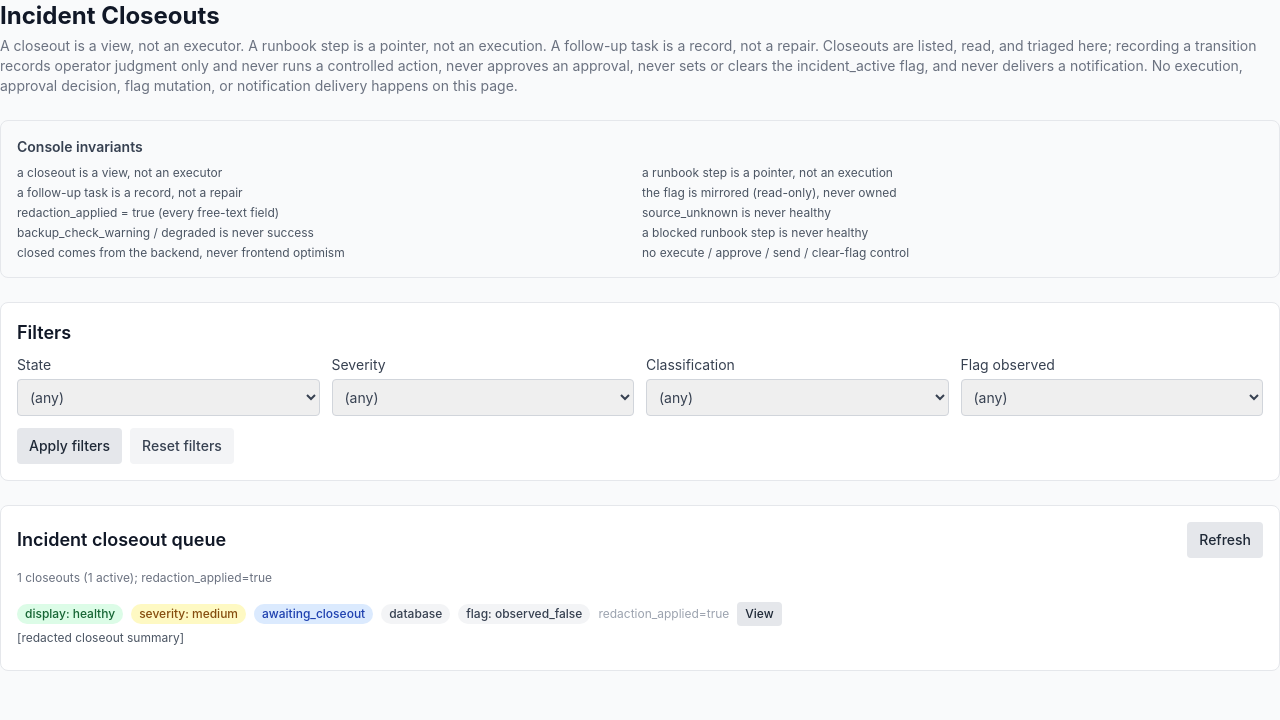
Test case: PlatformIncidentCloseoutsPage › closeout transition happy path posts target_state with the actor never in the body
Expected: the list item with test id "ic-queue-item" is shown, x1=17 y1=602 x2=782 y2=645
Click the button with test id "ic-view-btn".
click(759, 614)  # box x1=737 y1=602 x2=782 y2=626
(page scrolled)
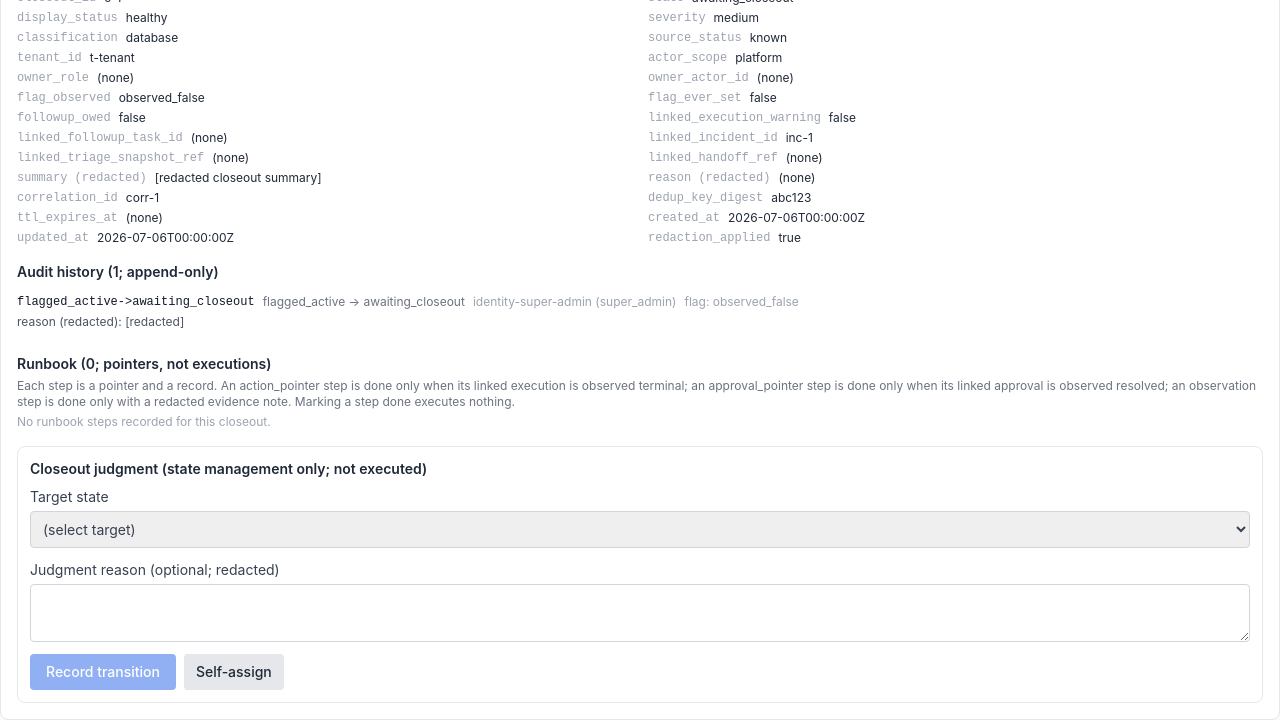
Result: the element with test id "ic-transitions" is shown at x1=17 y1=446 x2=1263 y2=703
Select "in_remediation" in the dropdown with test id "ic-closeout-target" at {"x": 640, "y": 530}, box x1=30 y1=511 x2=1250 y2=548
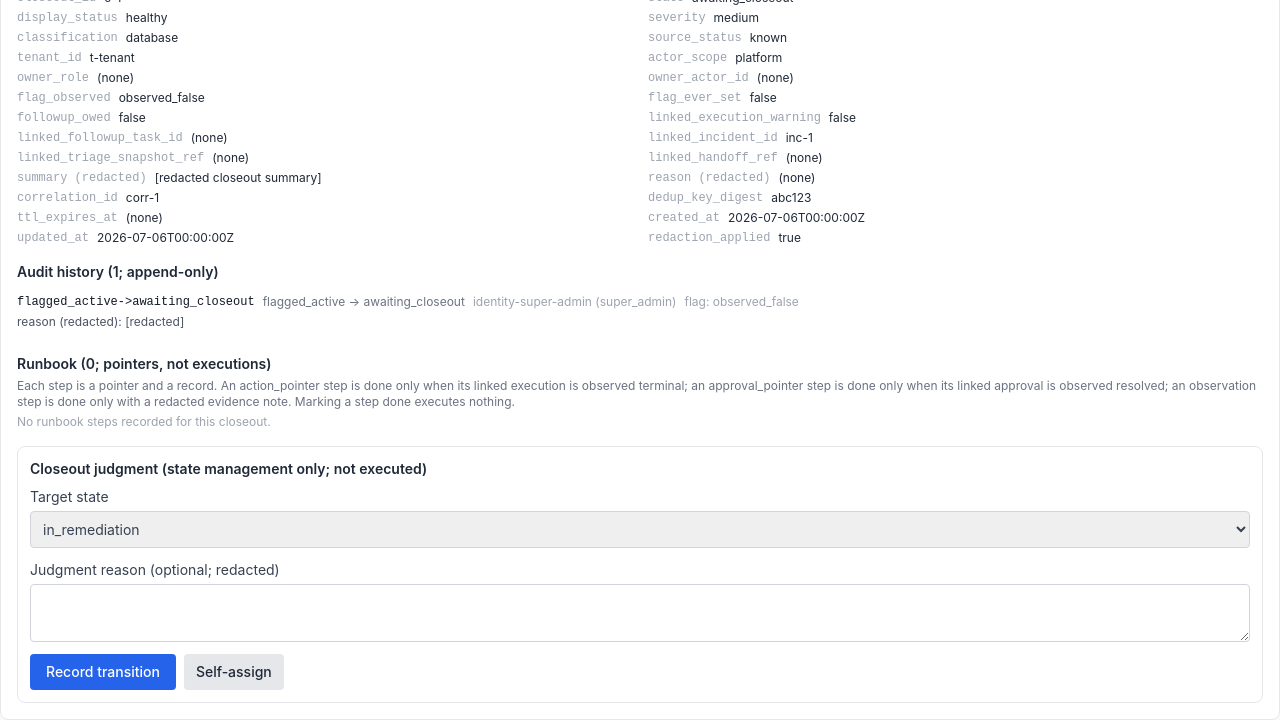
Click the button with test id "ic-closeout-submit".
click(103, 672)  # box x1=30 y1=654 x2=176 y2=690
(page scrolled)
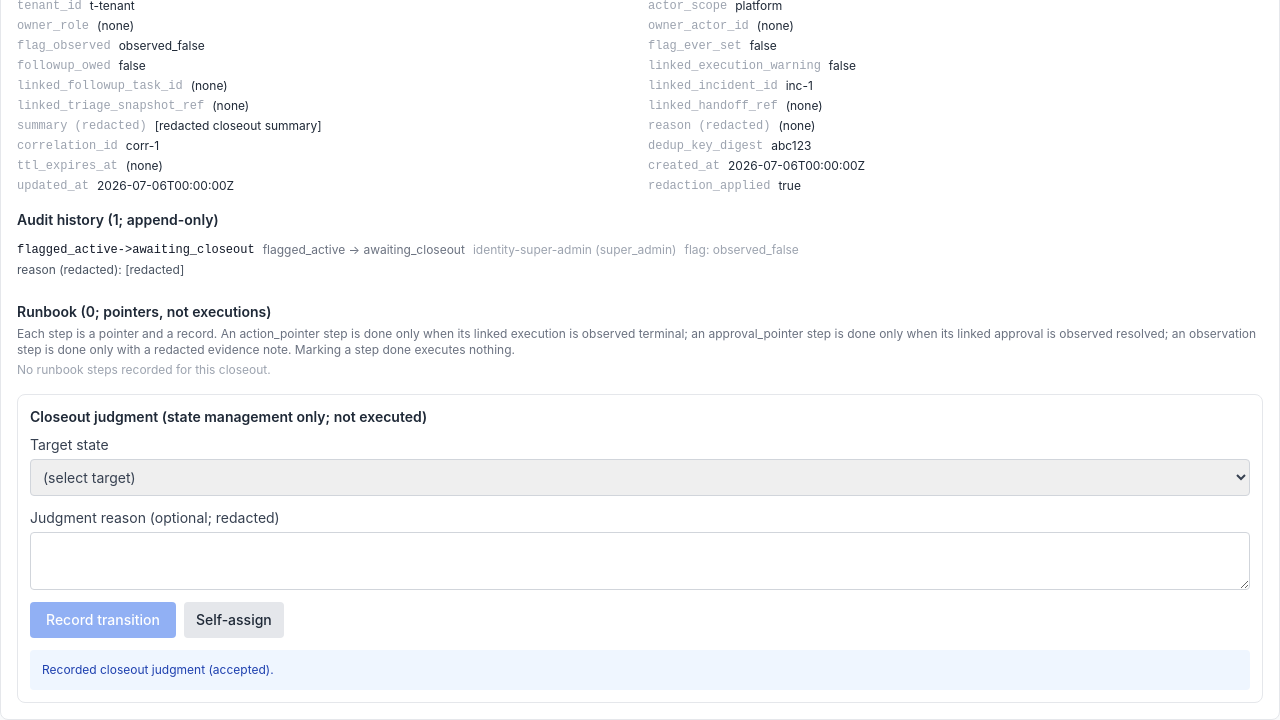
Result: the text "Recorded closeout judgment (accepted)." is shown at x1=30 y1=650 x2=1250 y2=690
